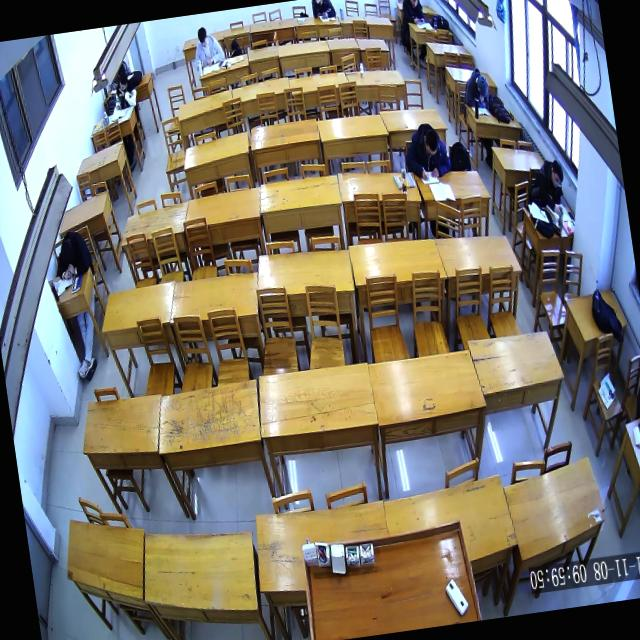bow: (51, 228, 95, 282)
down: (548, 159, 566, 189), (423, 129, 439, 158), (59, 240, 75, 266), (476, 75, 489, 98), (197, 26, 209, 48), (118, 72, 128, 91), (408, 0, 418, 8)
sit: (402, 121, 452, 183), (530, 159, 570, 219), (190, 25, 227, 70), (461, 67, 491, 110), (112, 71, 140, 112), (400, 0, 426, 26)
